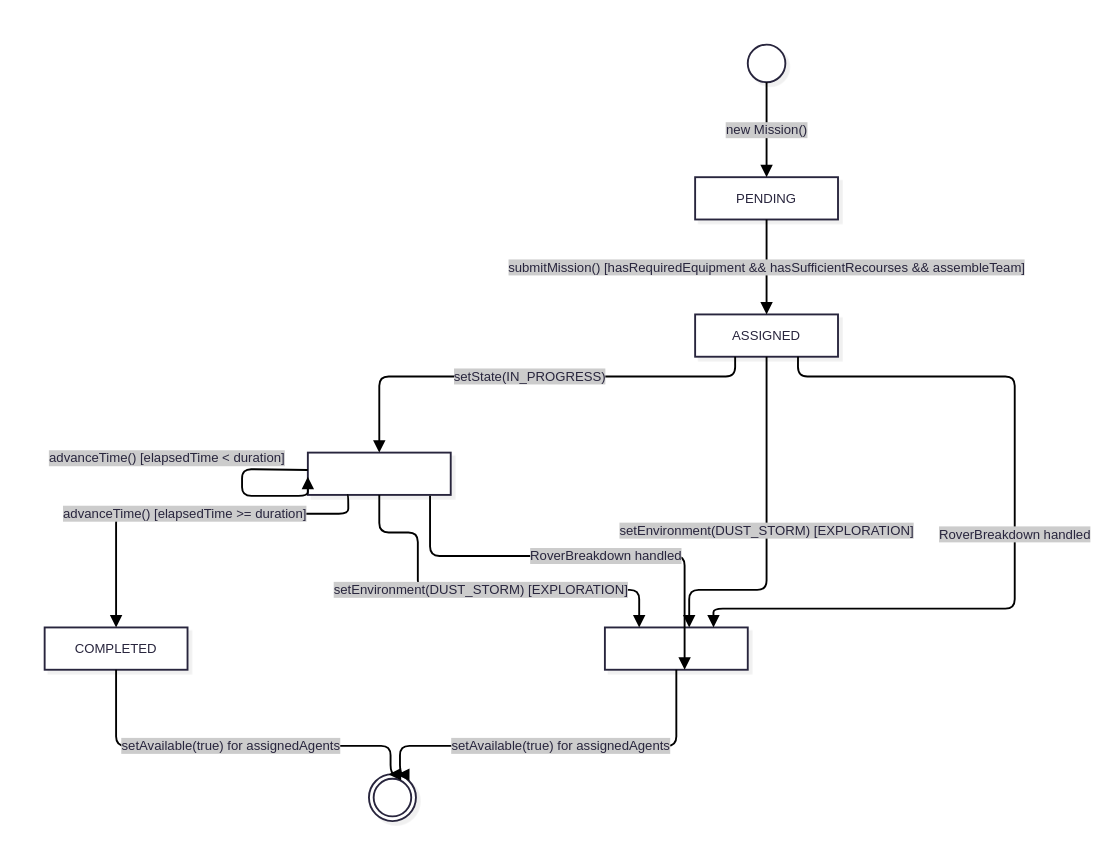
Some shapes in this 1106 by 841 pixel diagram are drawn without their labels. The shapes that lost their labels are listed below. From the top down, each one's centre as x and y in pixels, then its label:
At (x=380, y=475): "IN_PROGRESS".
At (x=677, y=650): "FAILED".
